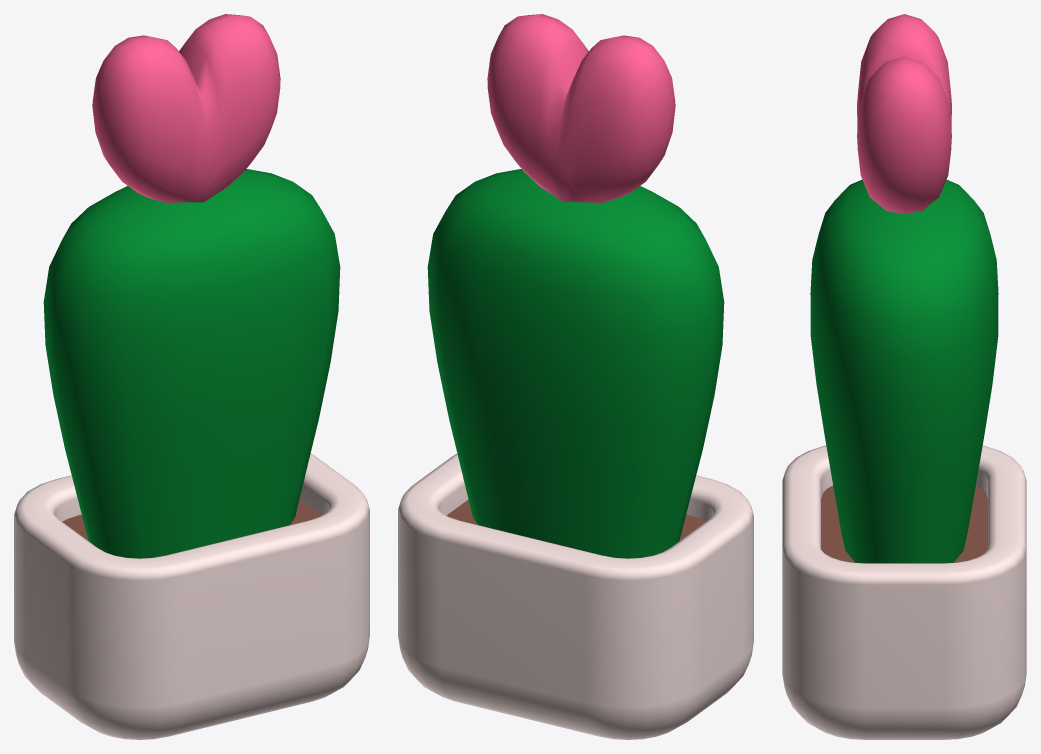
Rendered from City_20_Cactus_6.glb.
3 renders of one model, left to right at view 1: azimuth 30°, elevation 25°; view 2: azimuth 150°, elevation 25°; view 3: azimuth 270°, elevation 25°, orthographic. The views are drawn at different scales.
Visible parts, largest first — view 1: City_20_Cactus_6; view 2: City_20_Cactus_6; view 3: City_20_Cactus_6.
Part boxes in pixels (x1,y1,x2,y2): City_20_Cactus_6: (14,14,369,739); City_20_Cactus_6: (398,14,753,739); City_20_Cactus_6: (782,14,1026,739).
Bounding box in the file's own units: 0.6832 × 1.49 × 0.5088.
Materials: 1 (1 with a texture image).
